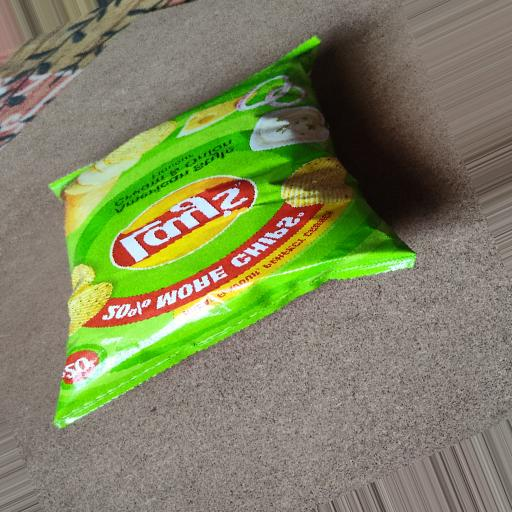Lays Green Small pack (American style cream and onion): (26, 11, 416, 480)
